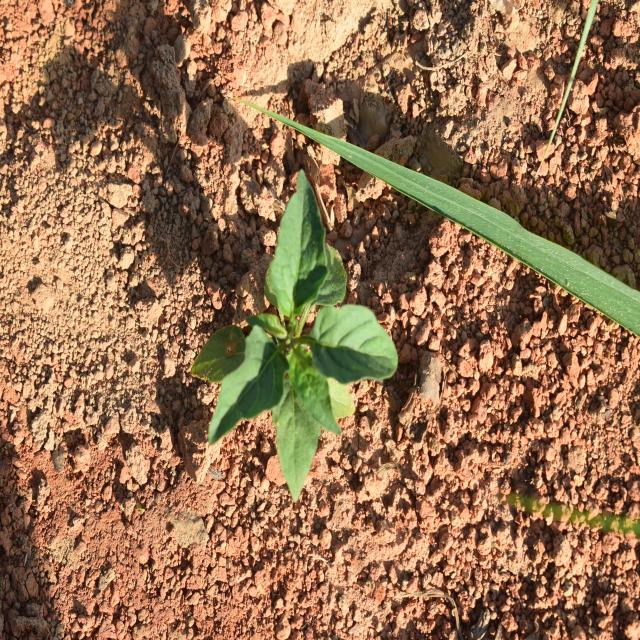Black_nightshade: (194, 192, 389, 468)
